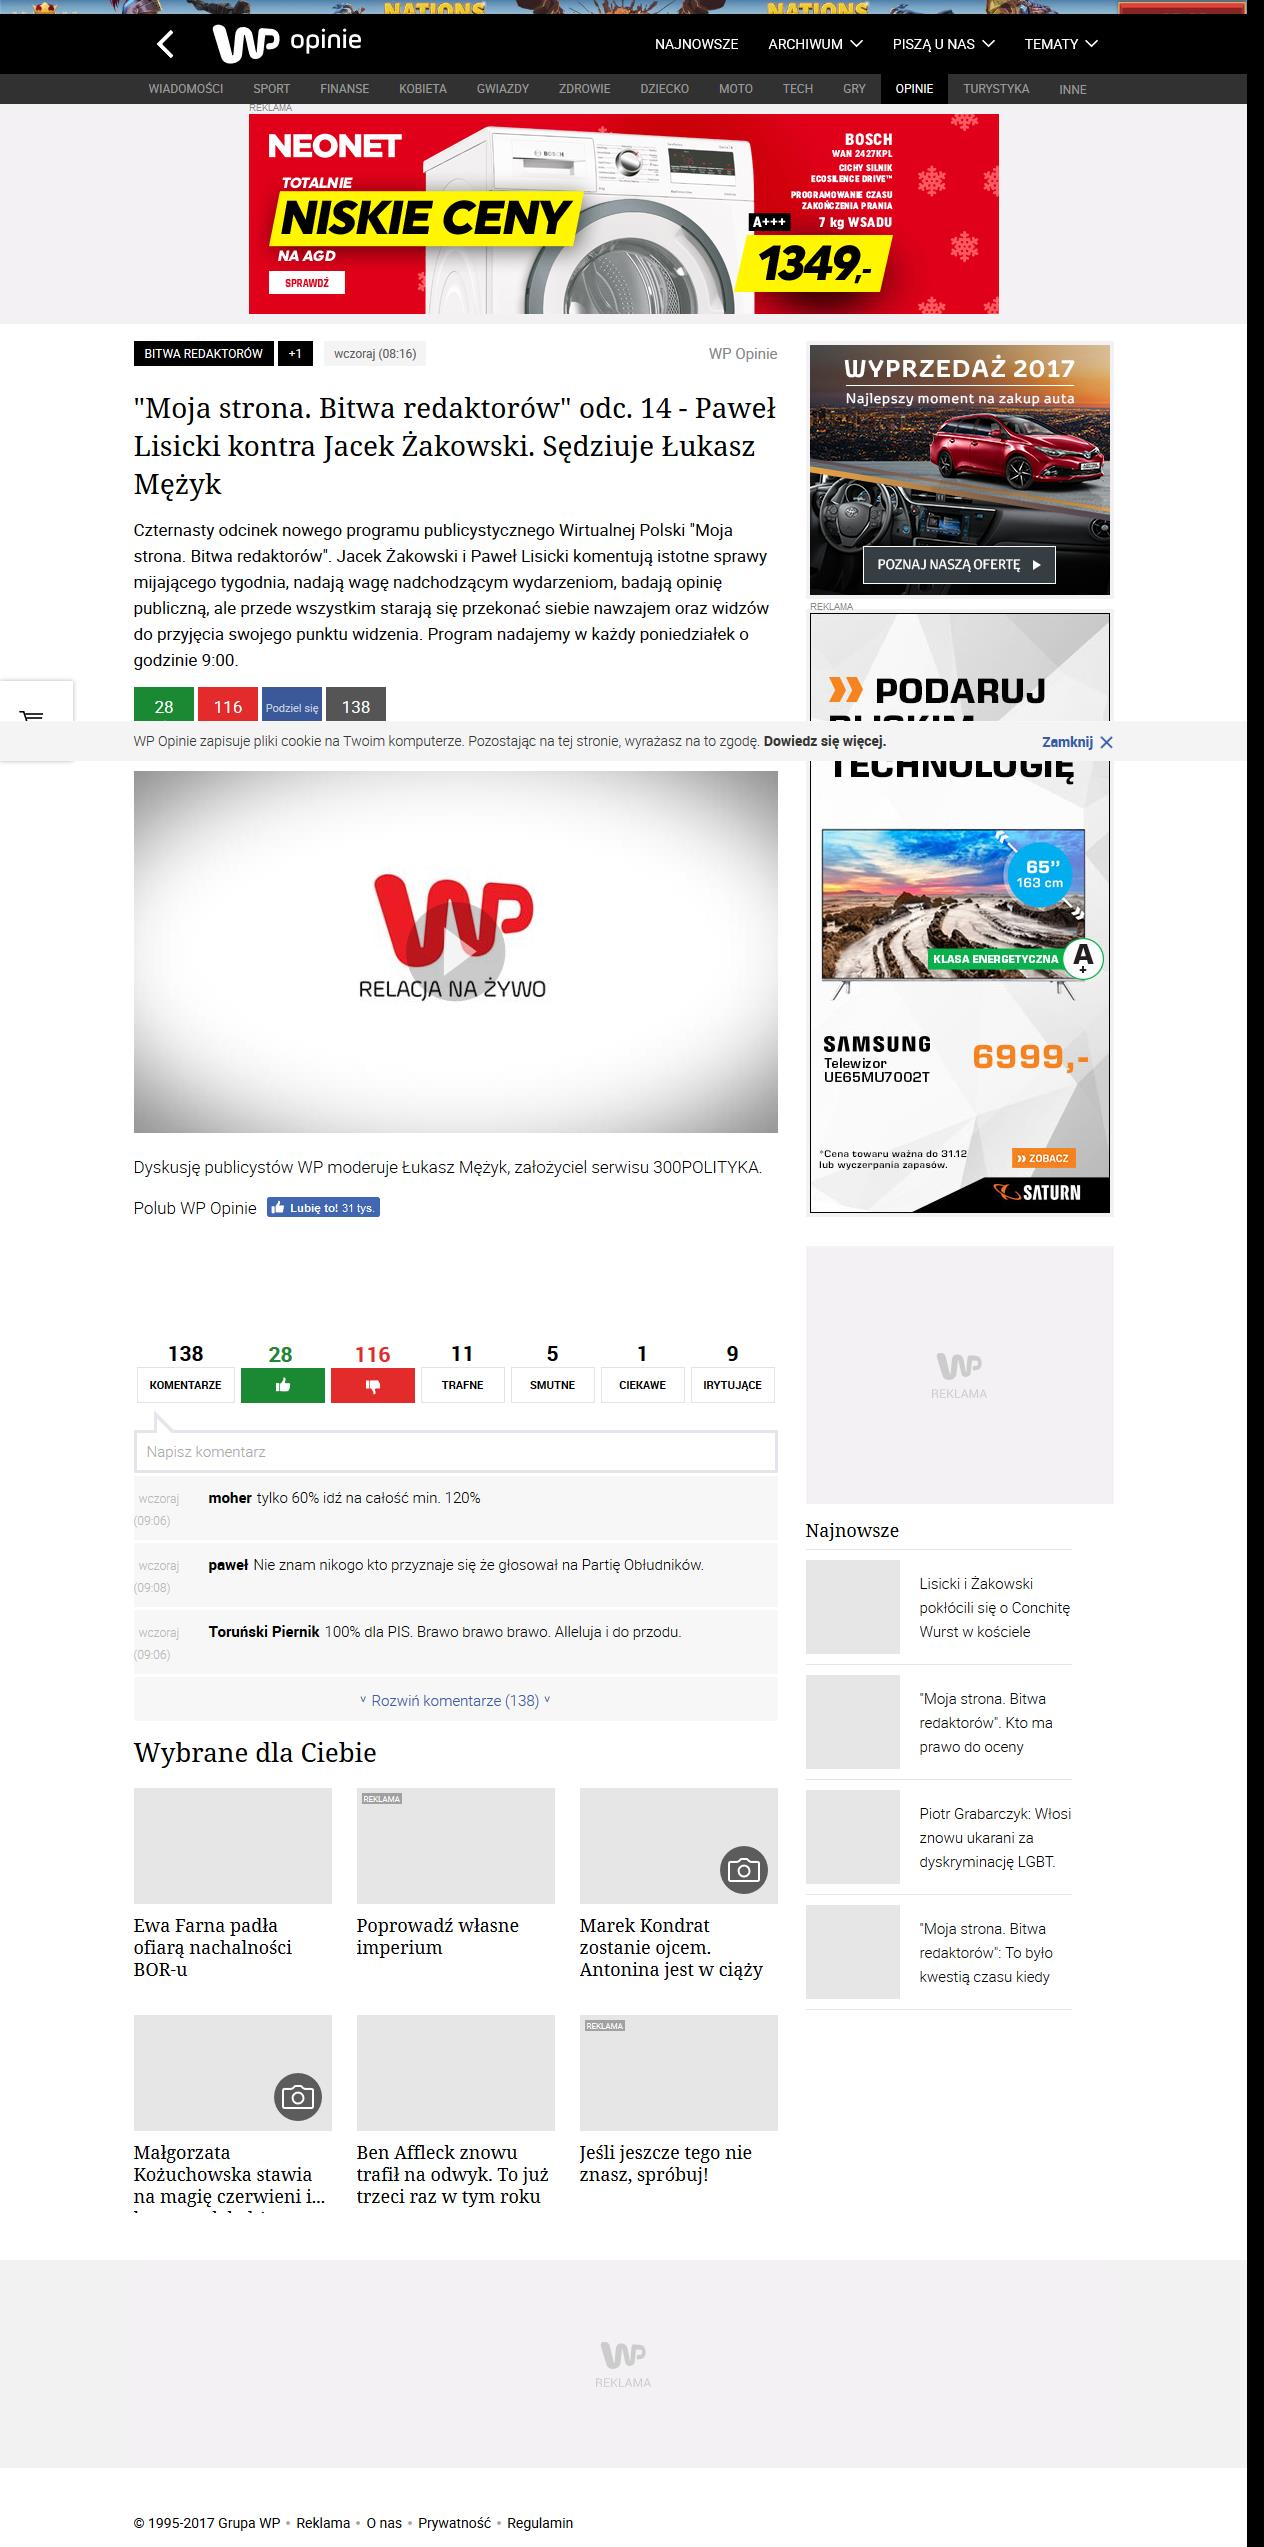title: (132, 395, 777, 502)
